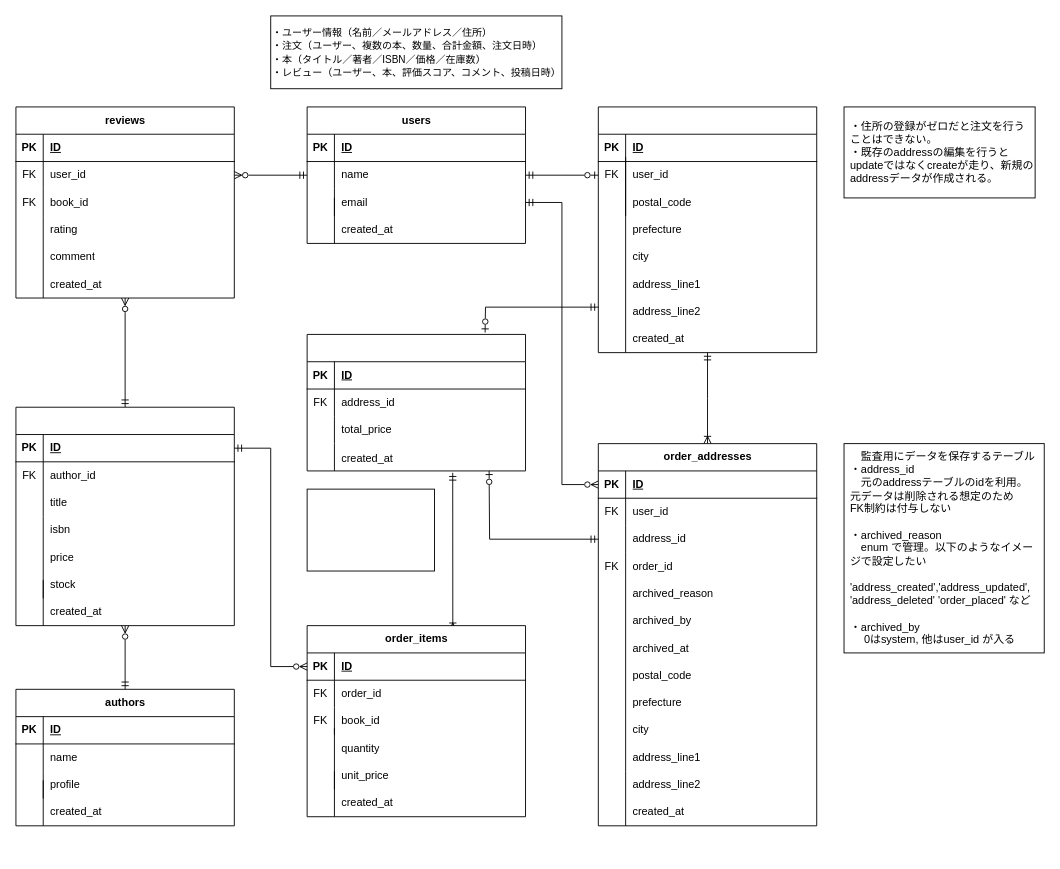
Some shapes in this 1060 by 869 pixel diagram are drawn without their labels. The shapes that lost their labels are listed below. From the top down, each one's box as (x1, y1, x2, y2) in pixels, then its label:
(597, 106, 817, 353): addresses
(306, 334, 526, 471): orders
(15, 406, 234, 626): books
(306, 488, 435, 571): ・ordersテーブルにはuser_idカラムは作成しない。理由はaddressesテーブル経由でuser_idが取得できるため
